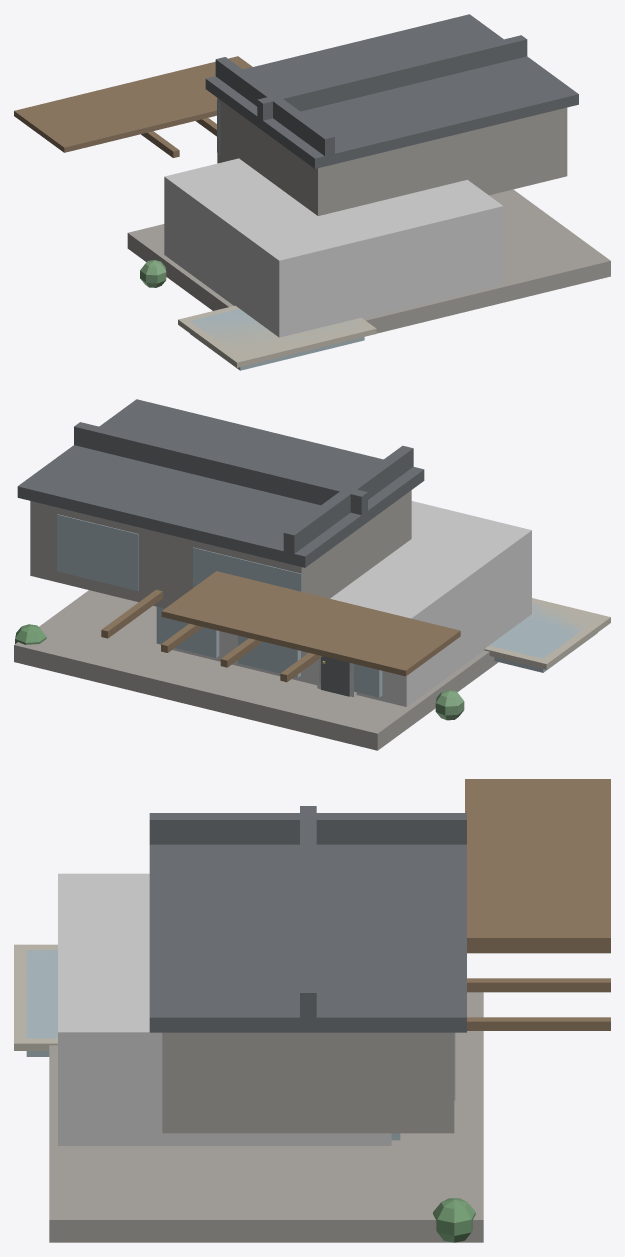
Rendered from modern_villa.glb.
3 views of the same model, one above another, from view 1: azimuth 30°, elevation 25°; view 2: azimuth 150°, elevation 25°; view 3: azimuth 270°, elevation 25° (orthographic). The views are drawn at different scales.
Visible parts, largest first — view 1: Mesh; view 2: Mesh; view 3: Mesh.
Boxes of the visible parts, x1,y1,x2,y2 form: Mesh: (14,14,610,370); Mesh: (14,399,610,750); Mesh: (14,779,610,1242).
Bounding box in the file's own units: 16.52 × 6.7 × 14.3.
